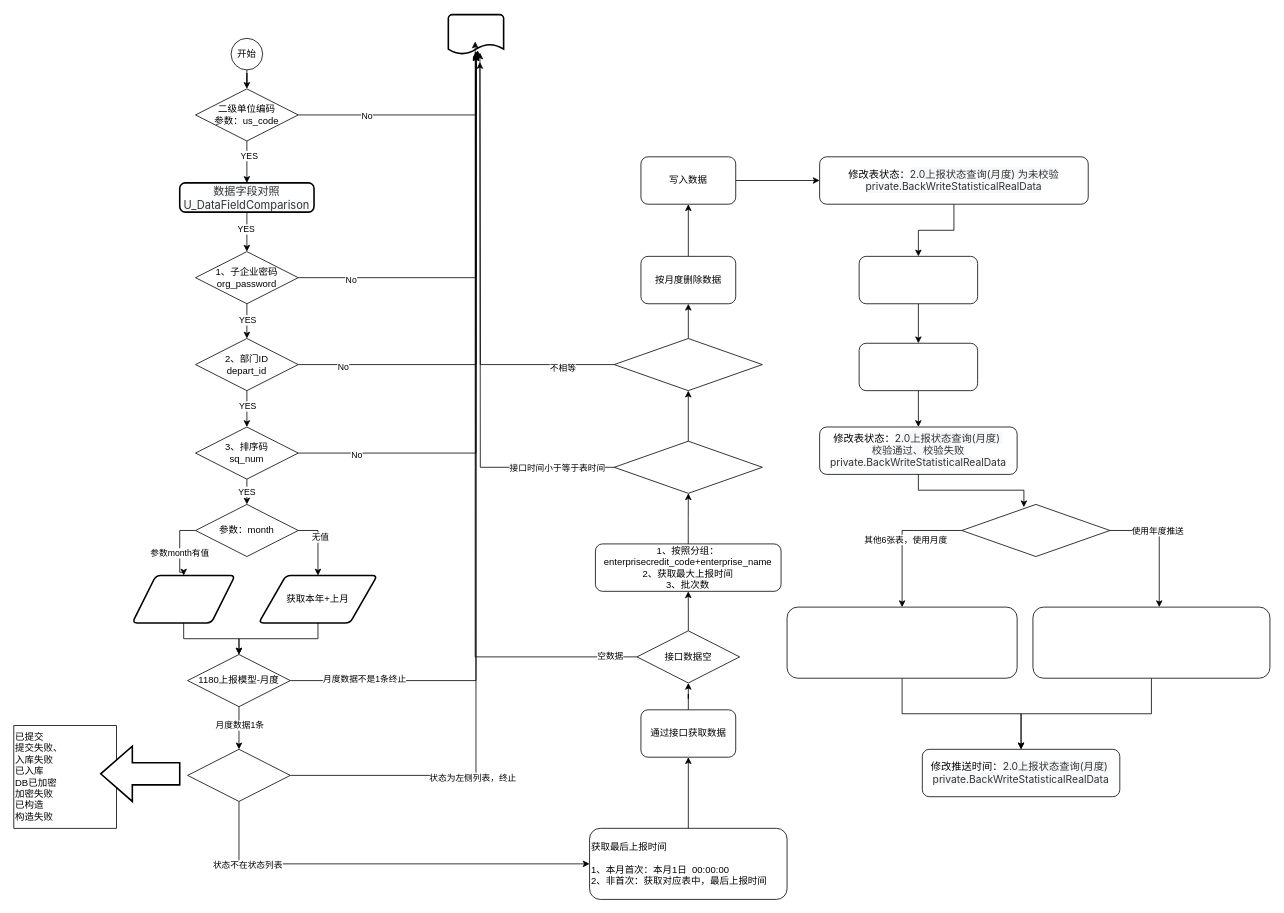
Some shapes in this 1284 by 913 pixel diagram are drawn without their labels. The shapes that lost their labels are listed below. From the top down, each one's centre as x and y in pixels, then its label:
At point (475, 34): "终止".
At point (918, 280): "执行国资委校验".
At point (687, 364): "对比： 1、接口：批次数量 2、接口：数据条数".
At point (918, 366): "获取对应单位的校验数据： 校验通过、校验失败 private. GetUnitVerificationStatus".
At point (687, 466): "对比： 1、接口：最大上报时间 2、表中：最大上报时间".
At point (1035, 530): "表6 - 各级负责人年度薪酬情况 表3-出售股权型".
At point (183, 598): "参数的month".
At point (901, 642): "推数据中台校验结果，有校验就推送，变动时间，中台校验表传的时间 private. Push_VerifRer_Month_To_Data_Center".
At point (1151, 642): "推数据中台校验结果，有校验就推送，变动时间，中台校验表传的时间 private. Push_VerifRer_Year_To_Data_Center".
At point (238, 775): "判断1180上报状态：".
